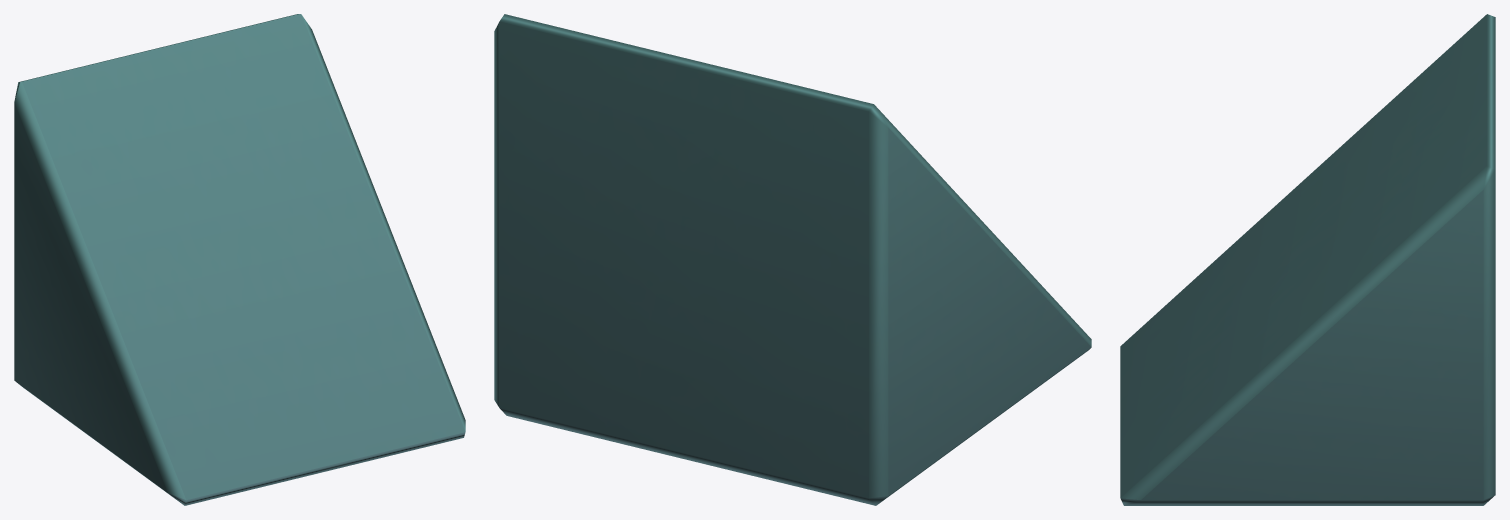
Rendered from ramp_straight_hue_1.fbx.
3 renders of one model, left to right at view 1: azimuth 30°, elevation 25°; view 2: azimuth 150°, elevation 25°; view 3: azimuth 270°, elevation 25°, orthographic. The views are drawn at different scales.
Visible parts, largest first — view 1: ramp_straight_hue_1; view 2: ramp_straight_hue_1; view 3: ramp_straight_hue_1.
Part boxes in pixels (x1,y1,x2,y2): ramp_straight_hue_1: (14,14,465,505); ramp_straight_hue_1: (494,14,1091,505); ramp_straight_hue_1: (1120,14,1495,505).
Bounding box in the file's own units: 100 × 97.79 × 97.79.
